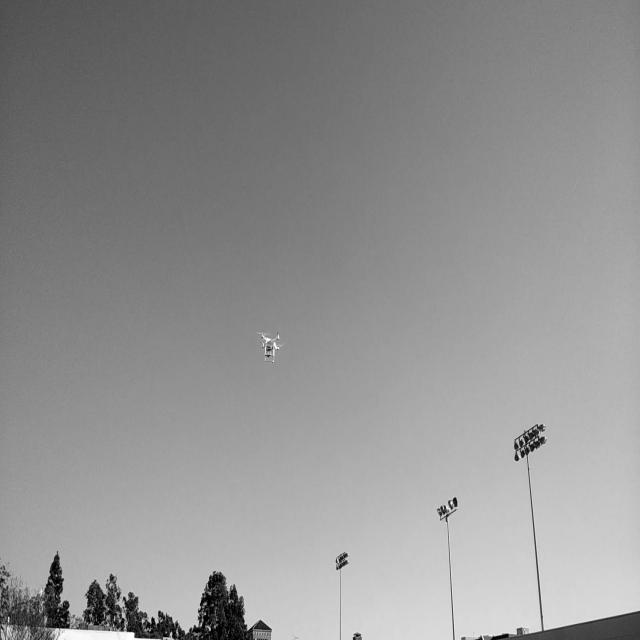drone: (258, 326, 288, 366)
